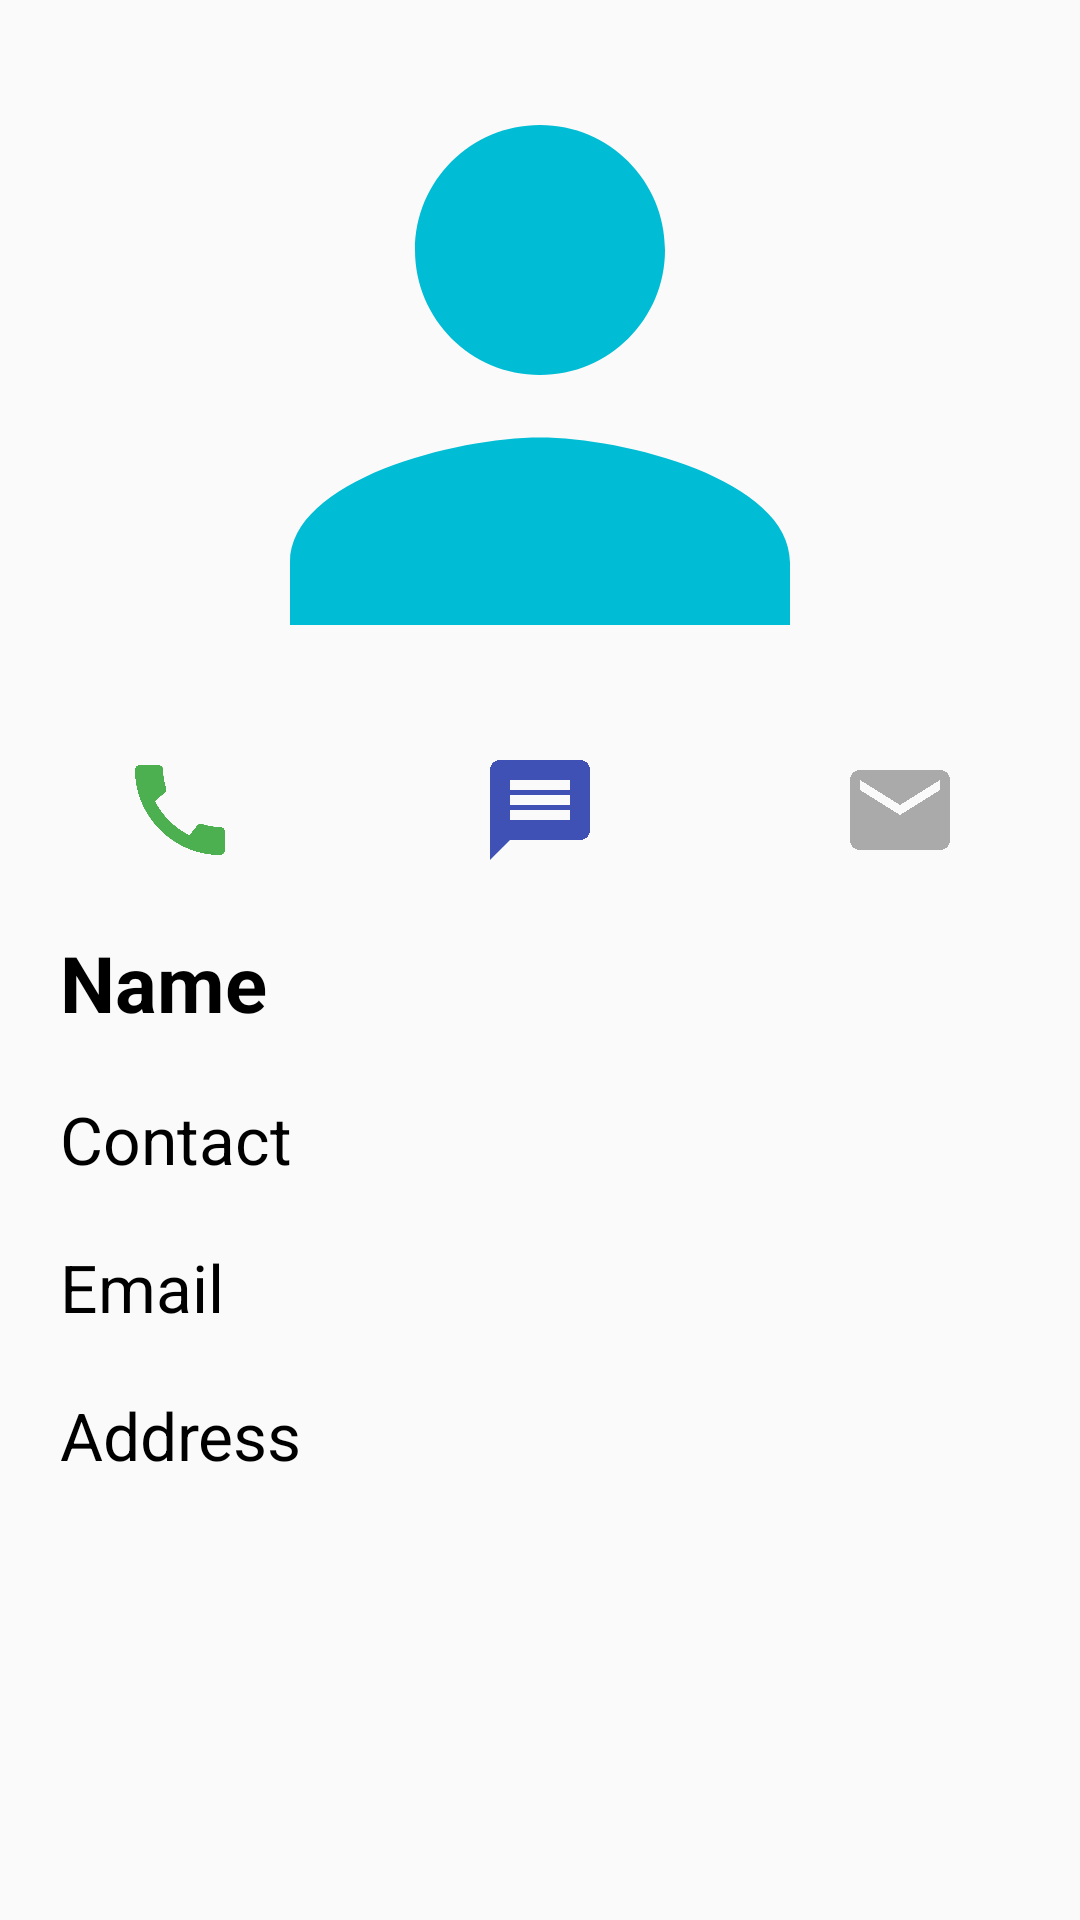

Named icons in this screenshot (1080×1920) and their bounding boxes, (x1, y1, x2, y2):
call: (135, 765, 225, 855)
email: (850, 770, 950, 850)
message: (490, 760, 590, 860)
